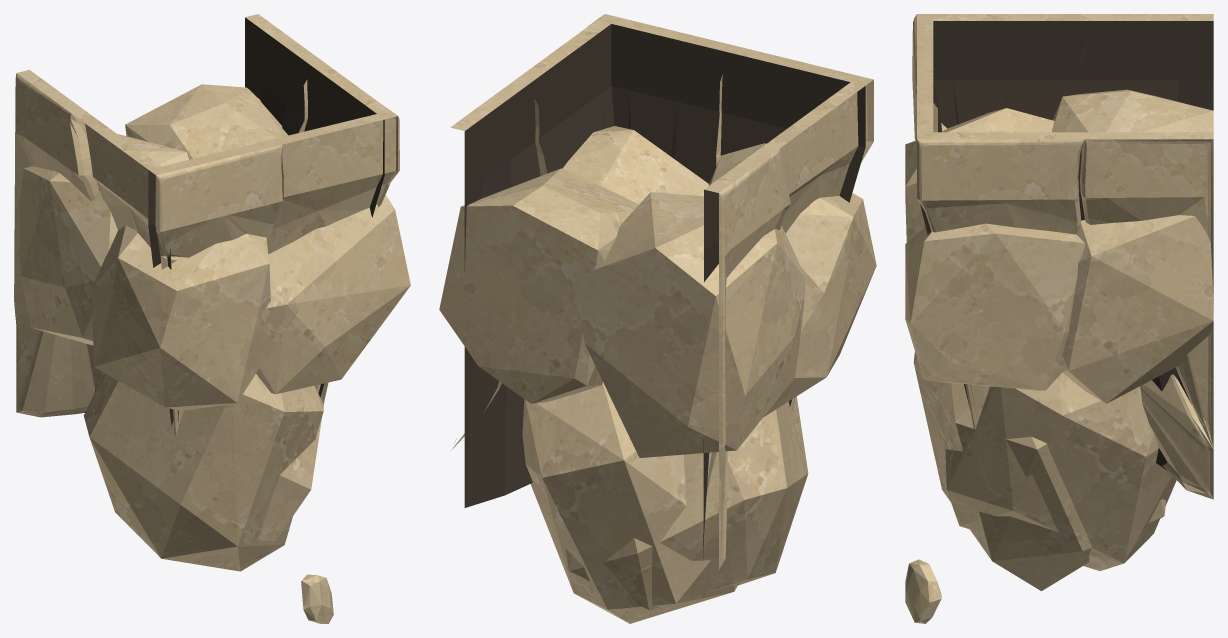
Rendered from ground_bottom_square_end_04.glb.
3 views of the same model, side by side, from view 1: azimuth 30°, elevation 25°; view 2: azimuth 150°, elevation 25°; view 3: azimuth 270°, elevation 25° (orthographic). The views are drawn at different scales.
Parts seen in each view (by area): view 1: GroundBottomSquareEnd04_Body; view 2: GroundBottomSquareEnd04_Body; view 3: GroundBottomSquareEnd04_Body.
Part boxes in pixels (box(x1,y1,x2,y2)): GroundBottomSquareEnd04_Body: box(14, 14, 410, 623); GroundBottomSquareEnd04_Body: box(439, 14, 876, 623); GroundBottomSquareEnd04_Body: box(905, 14, 1213, 623).
Bounding box in the file's own units: 1.08 × 1.94 × 1.04.
Materials: 13 (12 with a texture image).
